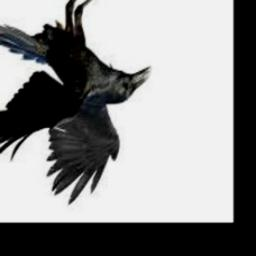Crow: (0, 0, 150, 204)
